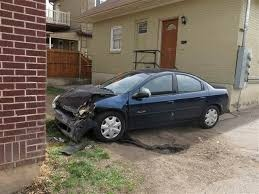Smashed: (53, 83, 115, 141)
